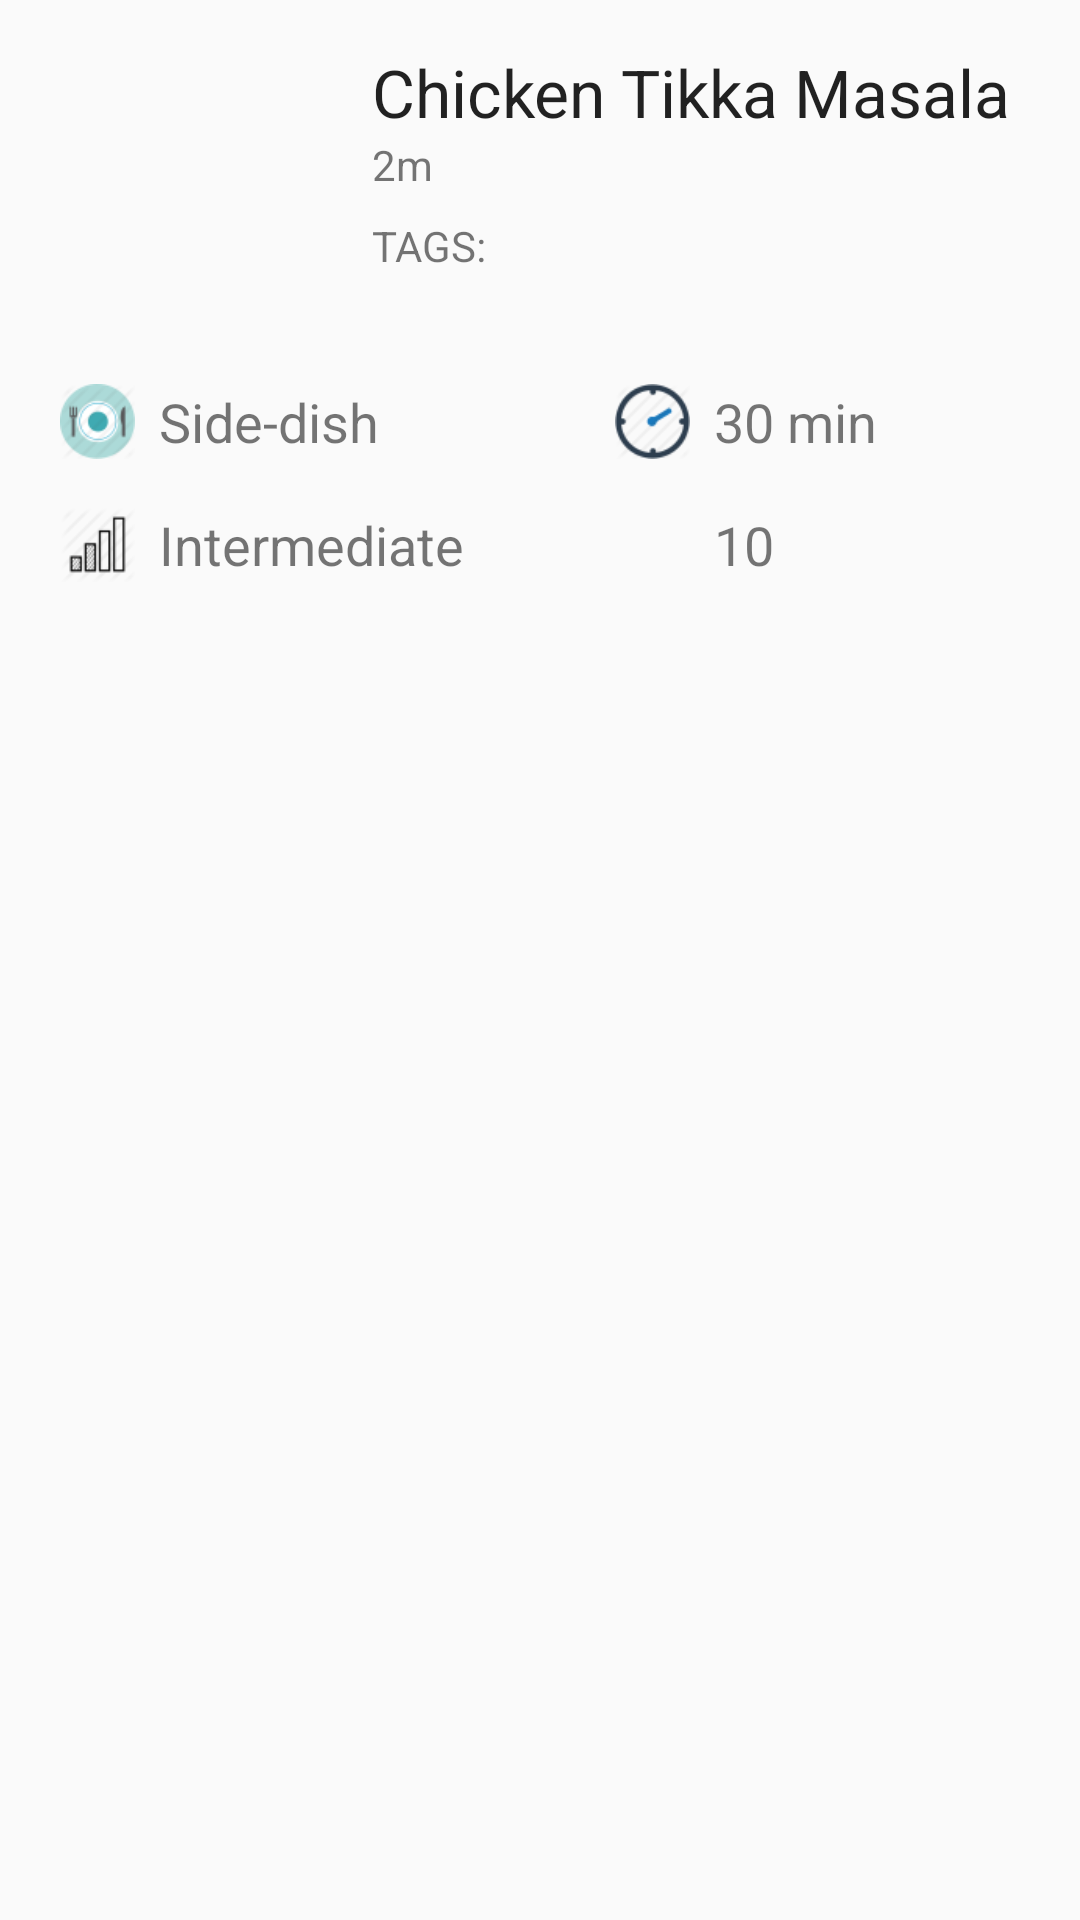

Icon click points for this 1080*1920 phone screenshot, format point (x, y):
level: point (97, 544)
time: point (652, 421)
